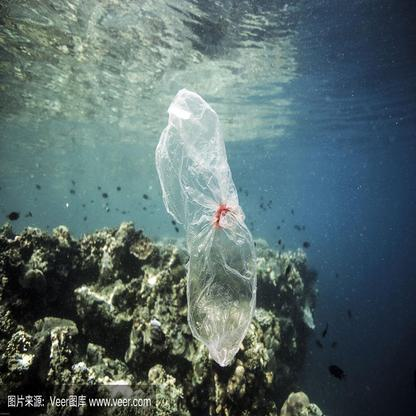plastic bag: (153, 87, 255, 368)
